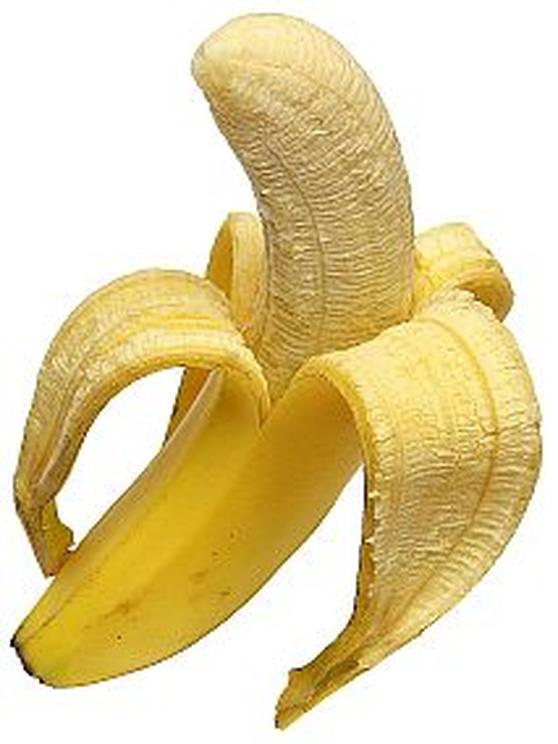banana: (14, 32, 439, 682)
